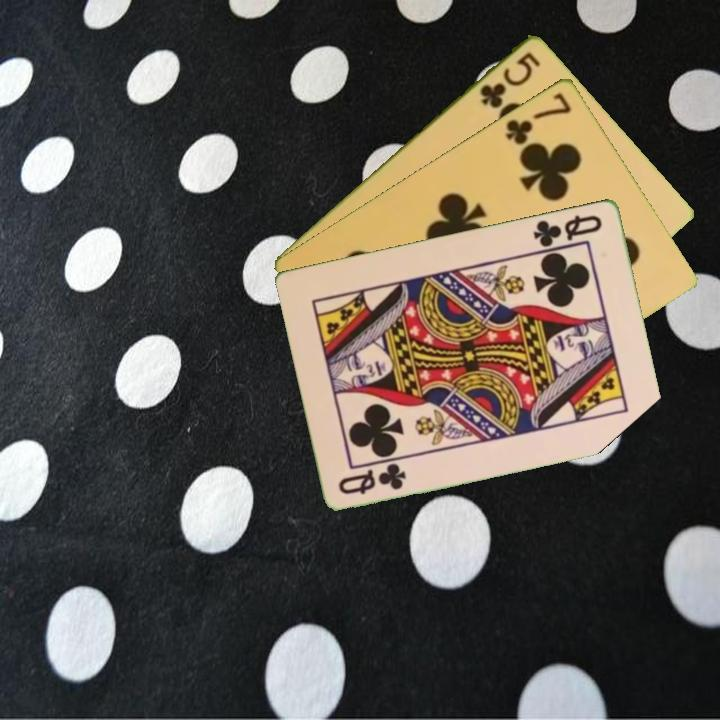5c: (476, 47, 544, 111)
7c: (501, 88, 575, 148)
Qc: (530, 211, 605, 250), (335, 459, 409, 497)
